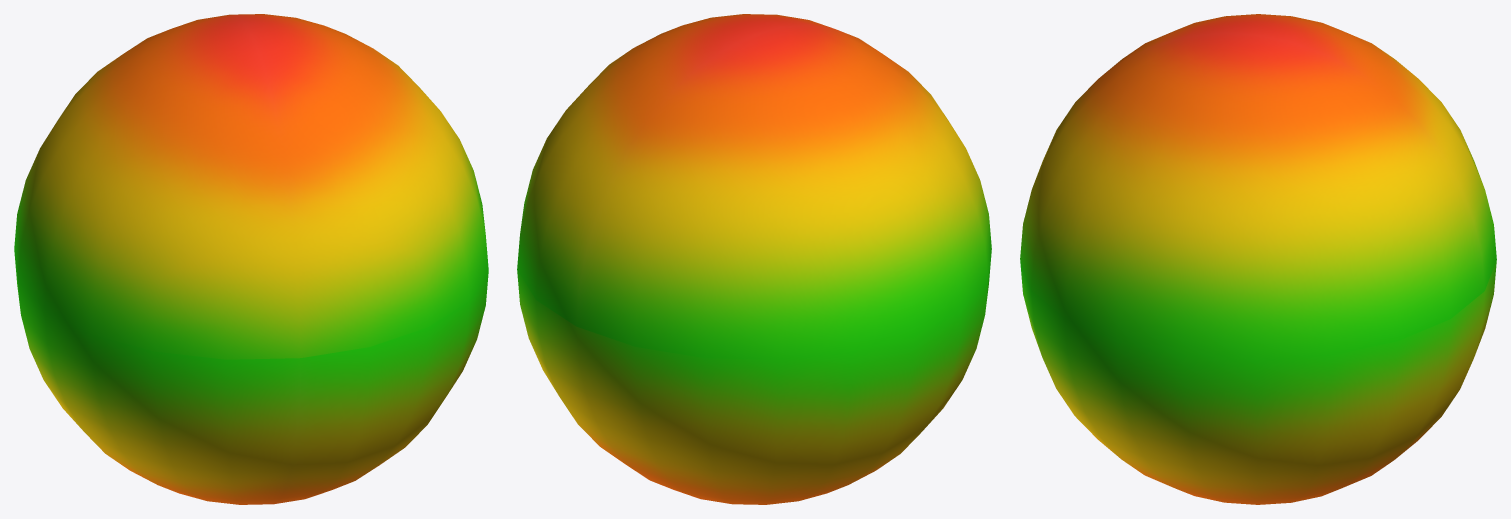
Rendered from planet.fbx.
3 renders of one model, left to right at view 1: azimuth 30°, elevation 25°; view 2: azimuth 150°, elevation 25°; view 3: azimuth 270°, elevation 25°, orthographic.
Parts seen in each view (by area): view 1: _pSphere6; view 2: _pSphere6; view 3: _pSphere6.
Part boxes in pixels (left/top/right/bottom): _pSphere6: left=14, top=14, right=488, bottom=504; _pSphere6: left=517, top=14, right=991, bottom=504; _pSphere6: left=1020, top=14, right=1496, bottom=504.
Bounding box in the file's own units: 4.7 × 4.88 × 4.7.
